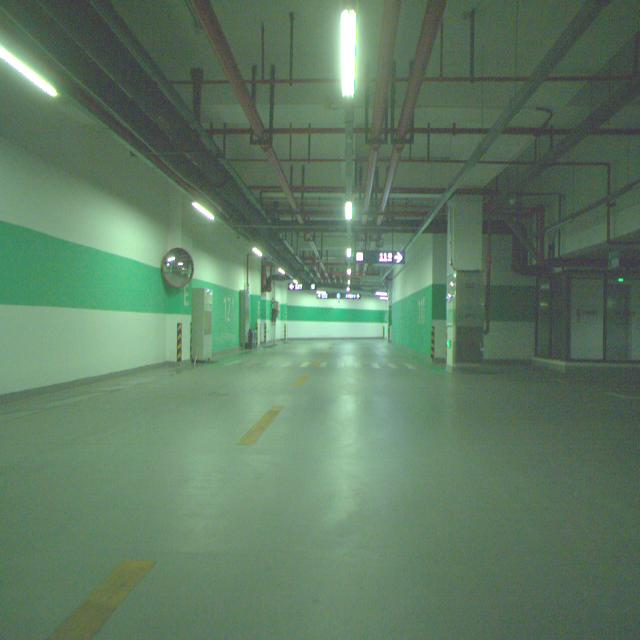pillar: (446, 195, 482, 372)
wall: (164, 200, 193, 373)
